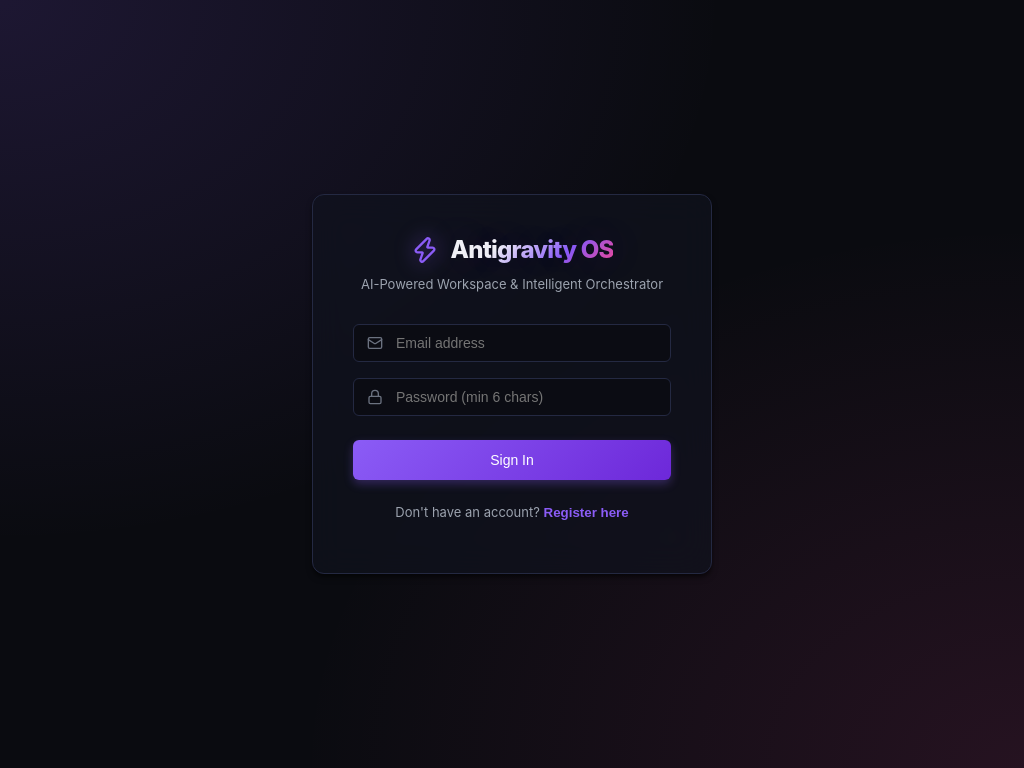
Test: AuthView › handles login form failure
Type "test@example.com" into the field with placeholder "Email address".
click(512, 343); type("test@example.com")  # box [353, 324, 671, 362]
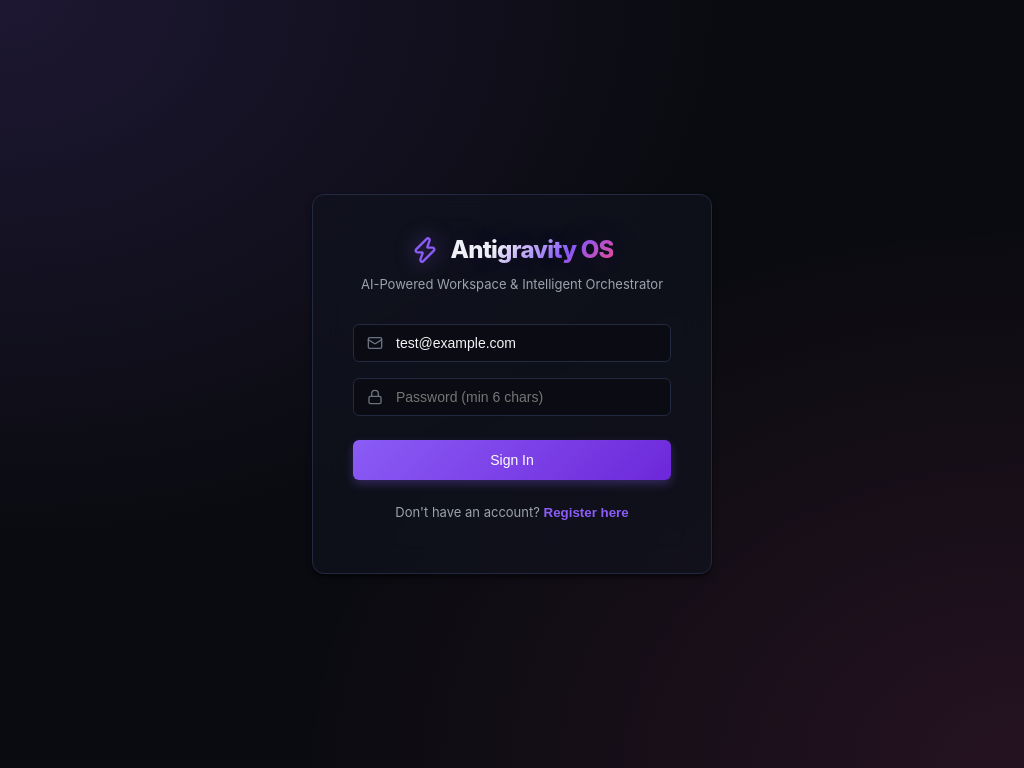
Type "wrongpass" into the password field with placeholder "Password (min 6 chars)".
click(512, 397); type("wrongpass")  # box [353, 378, 671, 416]
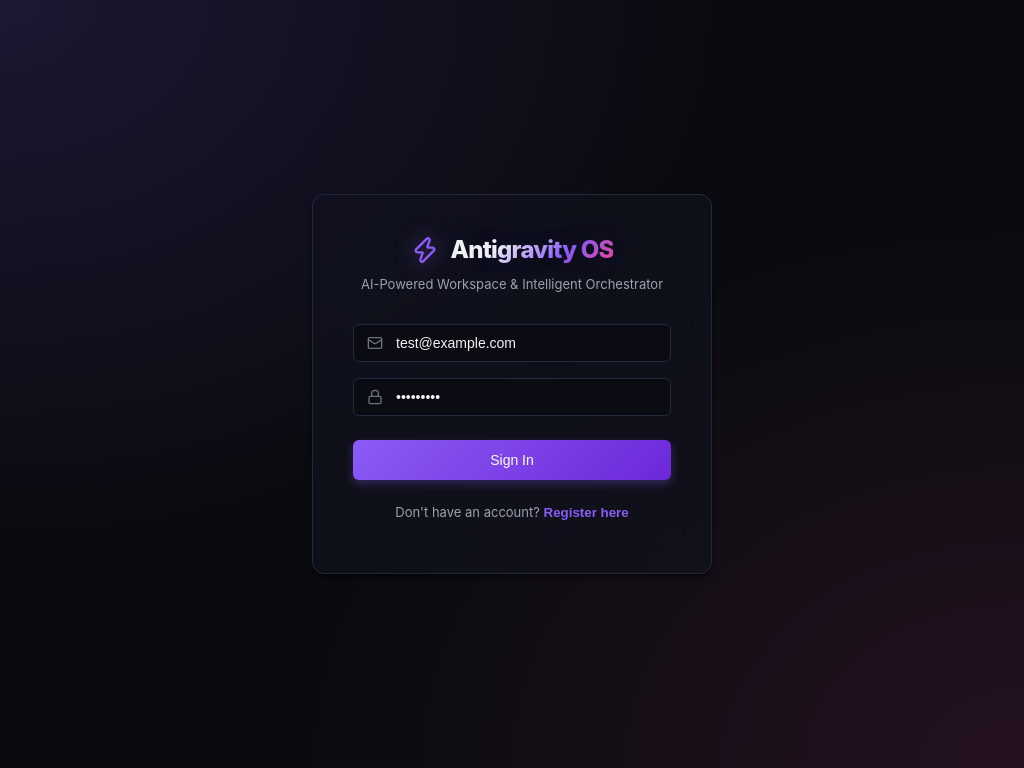
Click the button "Sign In".
click(512, 460)  # box [353, 440, 671, 480]
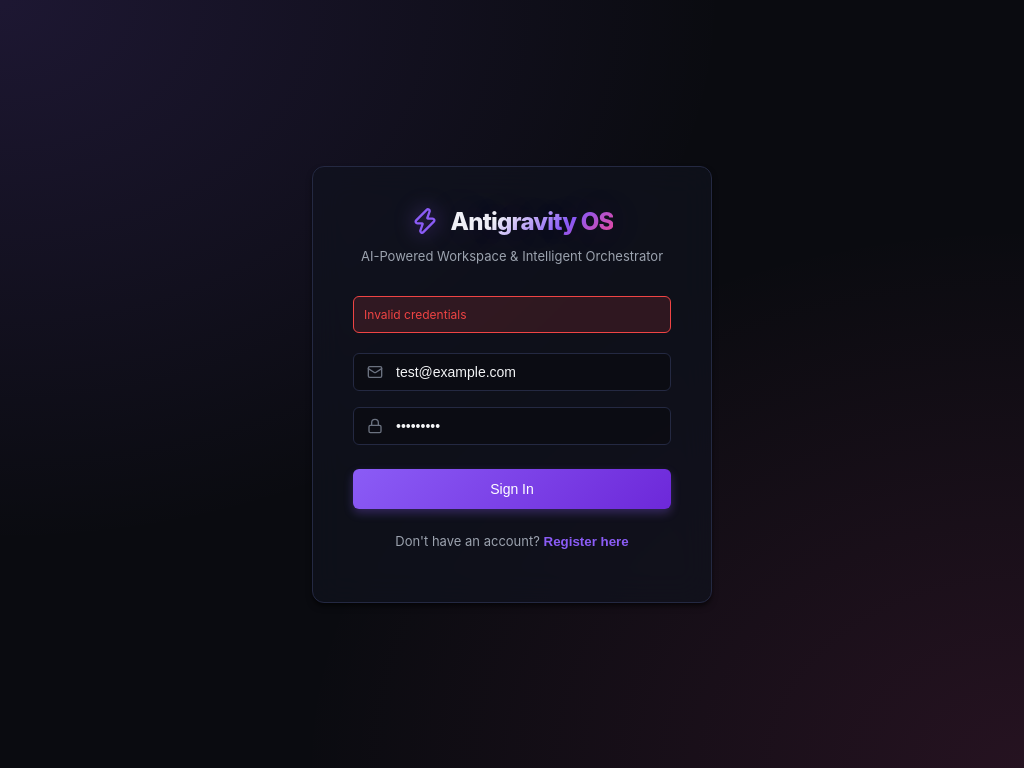
Expected: the text "Invalid credentials" is shown, [353, 296, 671, 332]
